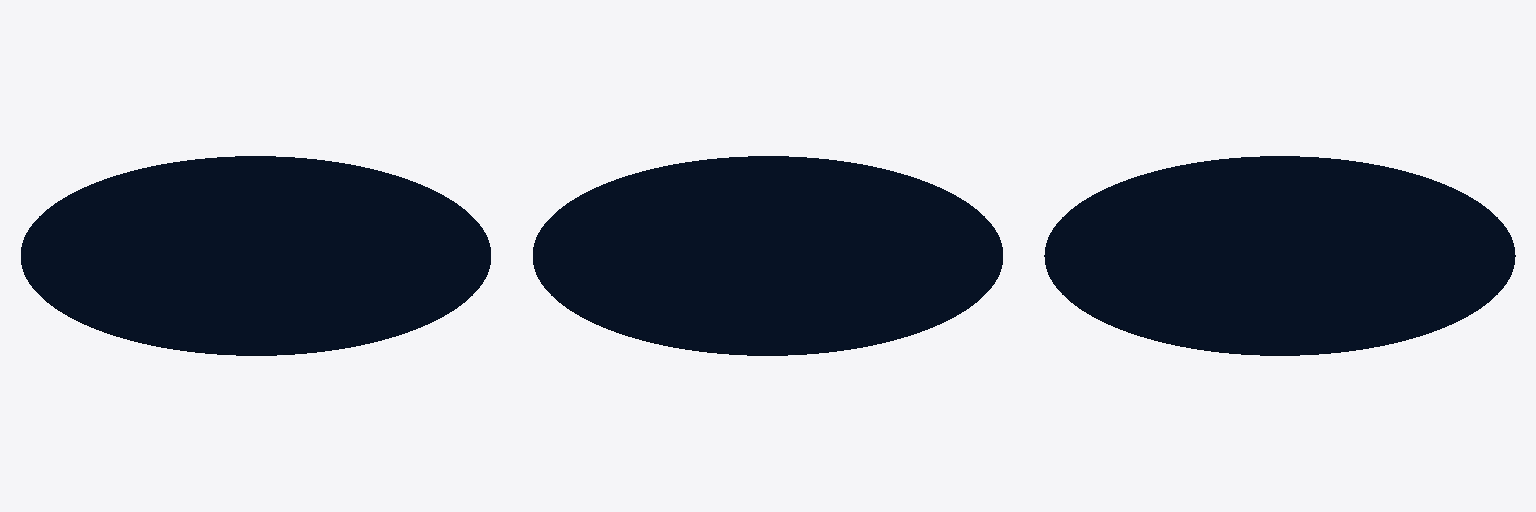
The model's file is MaviDaire.obj.
3 views of the same model, side by side, from view 1: azimuth 30°, elevation 25°; view 2: azimuth 150°, elevation 25°; view 3: azimuth 270°, elevation 25° (orthographic).
Parts seen in each view (by area): view 1: mavidaire; view 2: mavidaire; view 3: mavidaire.
Boxes of the visible parts, box(x1,y1,x2,y2) form: mavidaire: box(21, 156, 490, 355); mavidaire: box(533, 156, 1002, 355); mavidaire: box(1044, 156, 1515, 355).
Size of the model in its own units: 1.2 by 0.002 by 1.2.